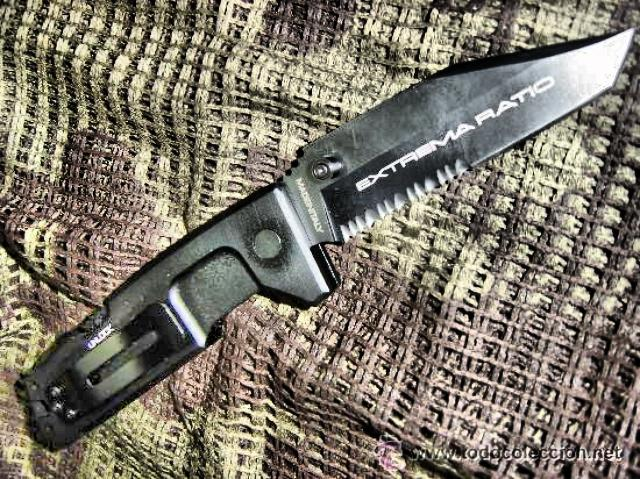knife: (258, 22, 636, 254)
